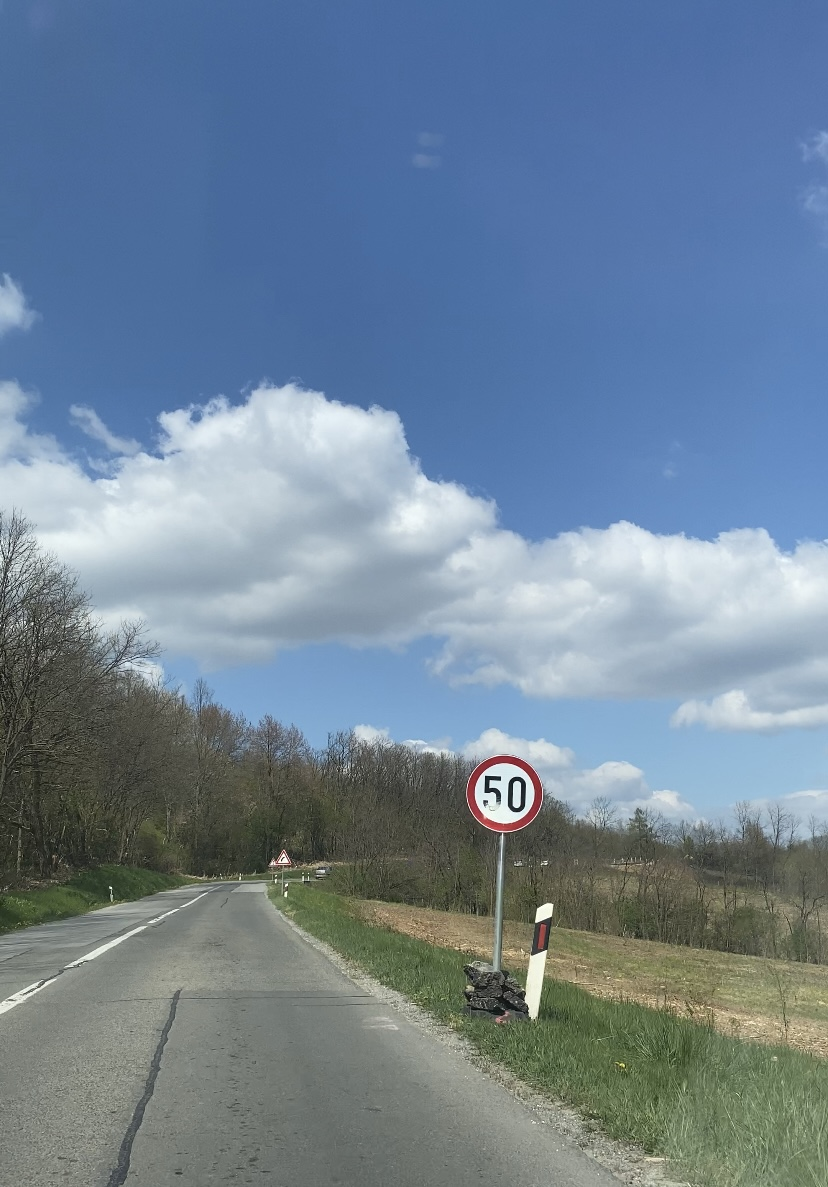Ograničenje brzine 50: (466, 754, 543, 833)
